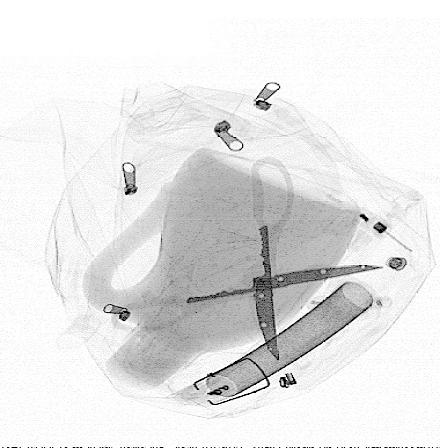Scissors: (109, 154, 386, 364)
